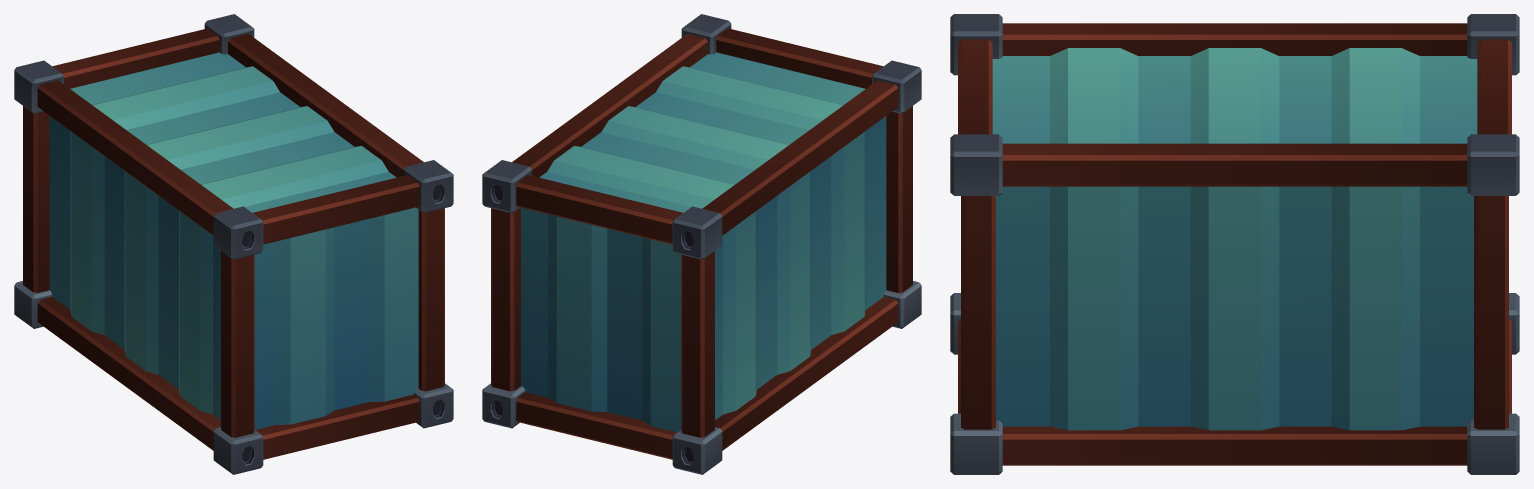
File: sp_build_wall_part0c.fbx
3 views of the same model, side by side, from view 1: azimuth 30°, elevation 25°; view 2: azimuth 150°, elevation 25°; view 3: azimuth 270°, elevation 25° (orthographic). The views are drawn at different scales.
Parts seen in each view (by area): view 1: wall_part0c; view 2: wall_part0c; view 3: wall_part0c.
Part boxes in pixels (x1,y1,x2,y2): wall_part0c: [14, 14, 453, 474]; wall_part0c: [482, 14, 921, 474]; wall_part0c: [950, 14, 1519, 474].
Size of the model in its own units: 293 by 313 by 499.
